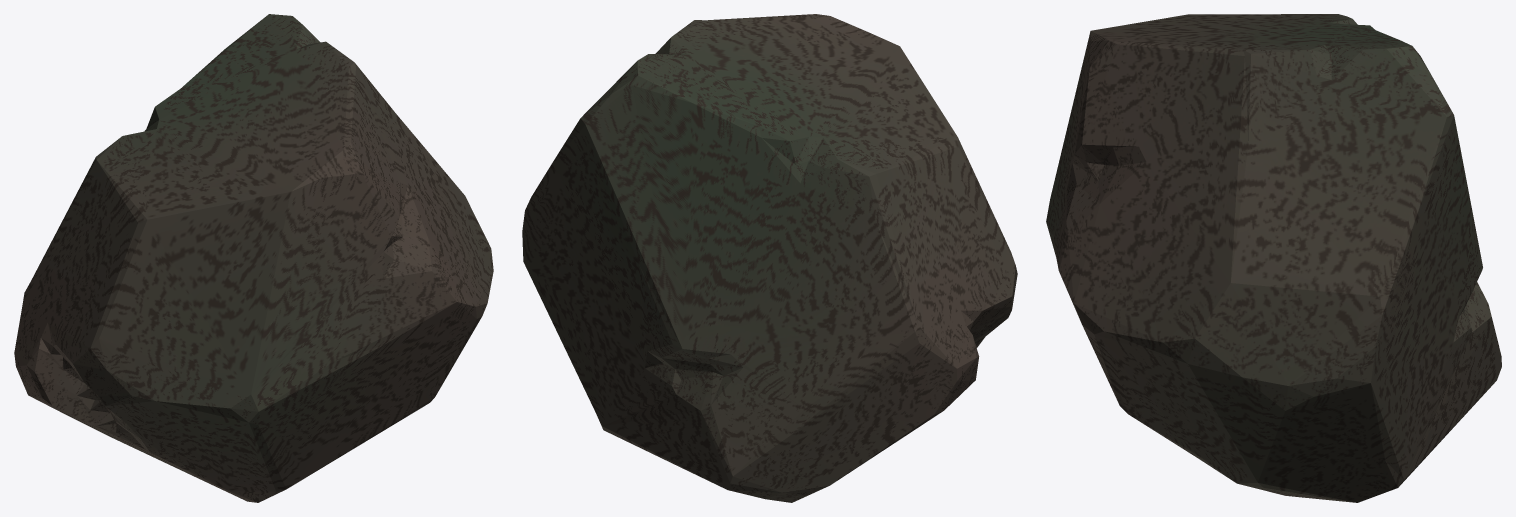
Rendered from Piedra_02.fbx.
The picture shows the model from 3 angles, left to right: view 1: azimuth 30°, elevation 25°; view 2: azimuth 150°, elevation 25°; view 3: azimuth 270°, elevation 25°; orthographic projection. The views are drawn at different scales.
Visible parts, largest first — view 1: Piedrita_02_Piedrita_02; view 2: Piedrita_02_Piedrita_02; view 3: Piedrita_02_Piedrita_02.
Boxes of the visible parts, x1=… form: Piedrita_02_Piedrita_02: x1=14, y1=14, x2=493, y2=502; Piedrita_02_Piedrita_02: x1=522, y1=14, x2=1017, y2=502; Piedrita_02_Piedrita_02: x1=1046, y1=14, x2=1501, y2=502.
Bounding box in the file's own units: 18.64 × 17.72 × 15.07.
